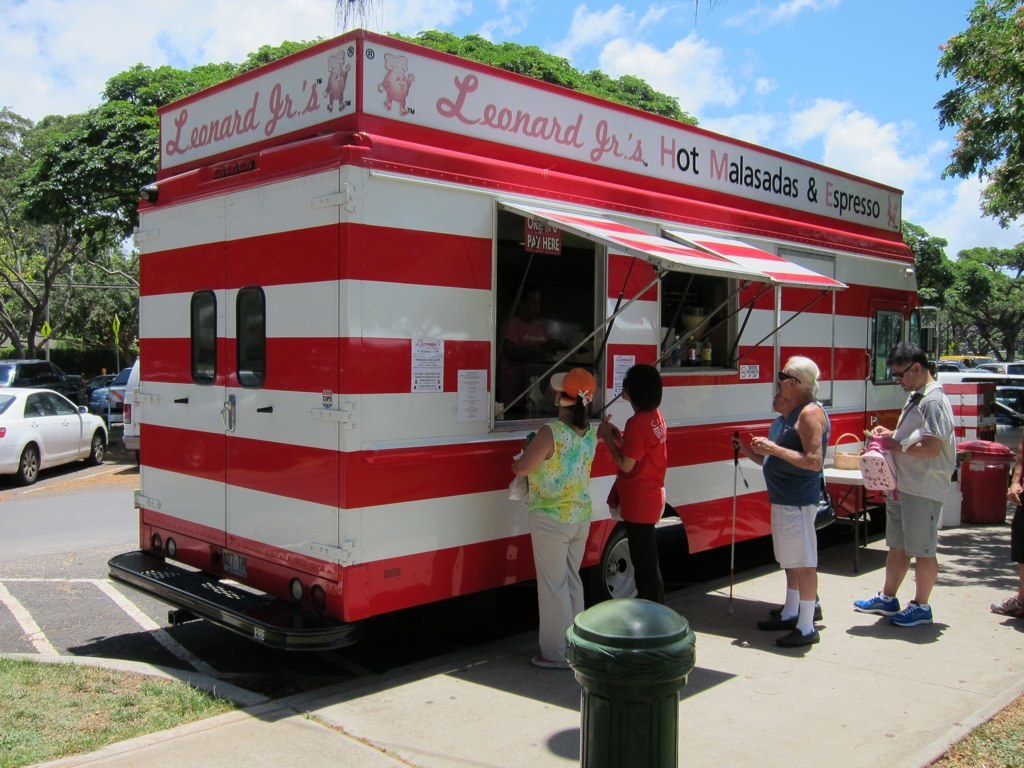Car: (0, 388, 104, 484)
